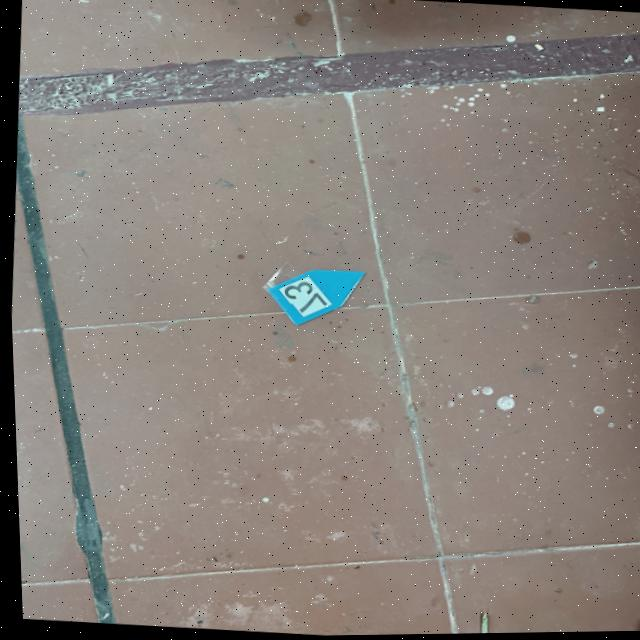board: (260, 270, 364, 325)
